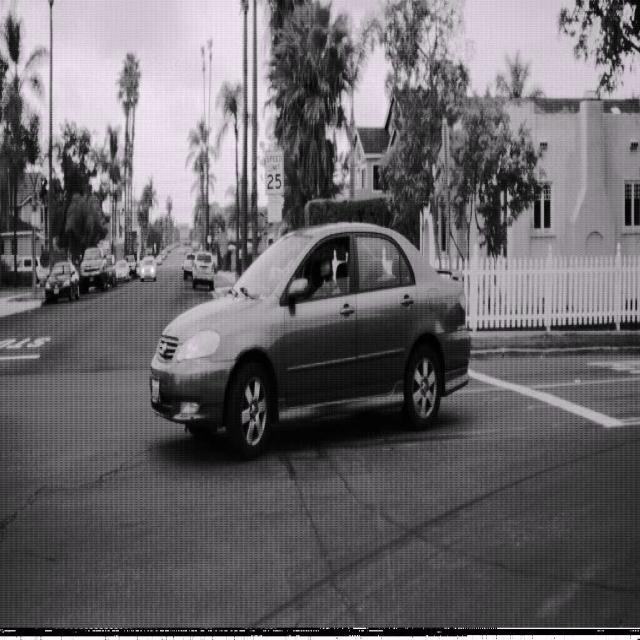speedLimit25: (264, 147, 285, 196)
